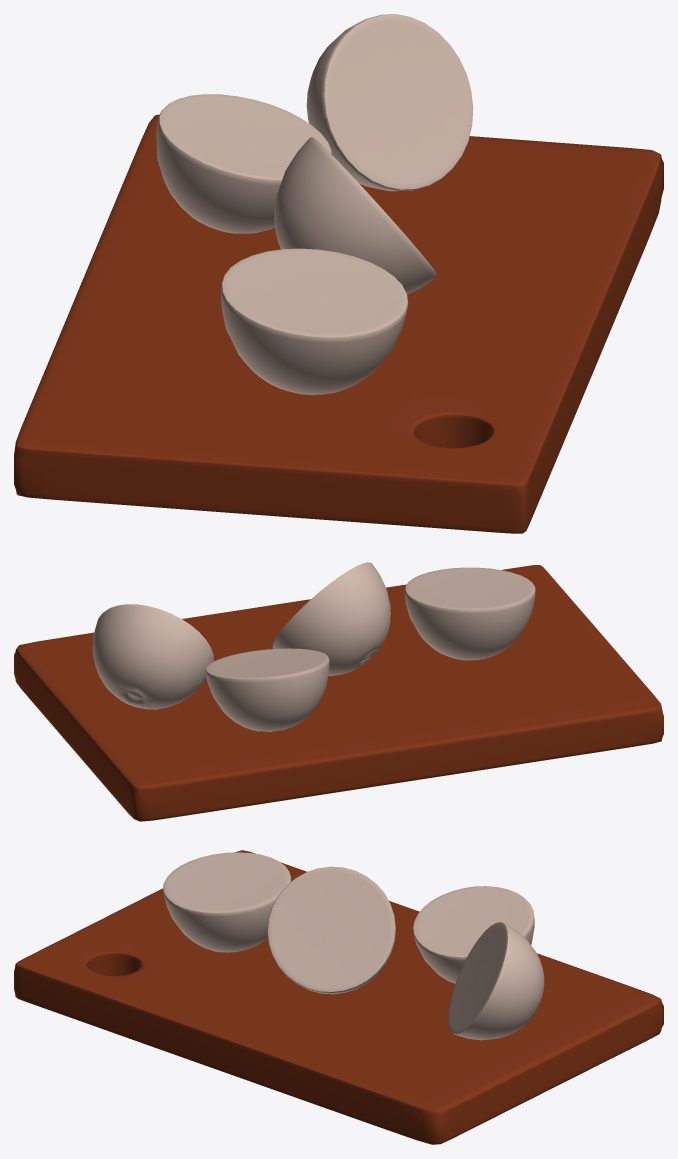
Rendered from Oranges.FBX.
3 renders of one model, top to bottom at view 1: azimuth 30°, elevation 25°; view 2: azimuth 150°, elevation 25°; view 3: azimuth 270°, elevation 25°, orthographic. The views are drawn at different scales.
Parts seen in each view (by area): view 1: Wood_Oranges Uvs; view 2: Wood_Oranges Uvs; view 3: Wood_Oranges Uvs.
Boxes of the visible parts, bbox=[...] form: Wood_Oranges Uvs: bbox=[14, 14, 663, 533]; Wood_Oranges Uvs: bbox=[14, 562, 663, 821]; Wood_Oranges Uvs: bbox=[14, 850, 663, 1144].
Bounding box in the file's own units: 0.3914 × 0.0979 × 0.407.
